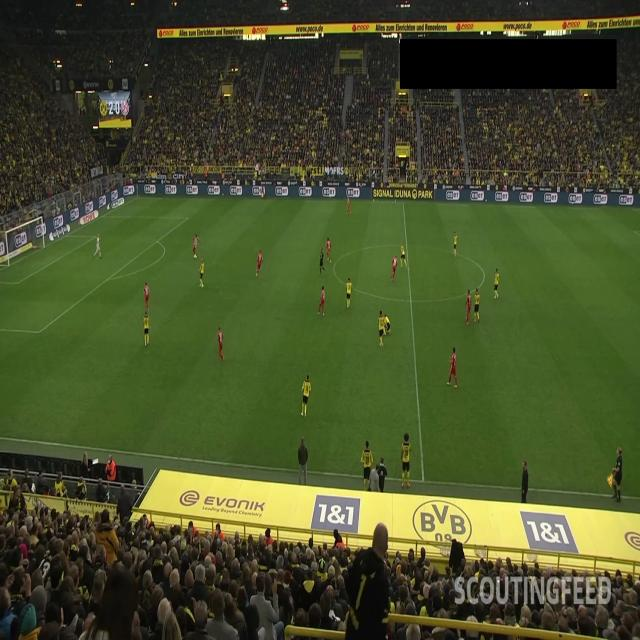ball: (195, 254, 198, 260)
goalkeeper: (93, 232, 102, 258)
player: (360, 440, 374, 491), (400, 432, 411, 488), (447, 346, 458, 388), (301, 374, 311, 417), (142, 311, 150, 347), (317, 285, 326, 316), (378, 310, 385, 348), (345, 277, 353, 309), (474, 287, 481, 323), (390, 254, 398, 282), (493, 268, 500, 300), (382, 314, 392, 336), (465, 290, 471, 326), (218, 326, 224, 361), (256, 249, 263, 277), (144, 282, 150, 314), (400, 243, 407, 269), (193, 234, 200, 258), (326, 236, 332, 262), (199, 257, 204, 288), (453, 230, 458, 258), (346, 195, 352, 216)
referee: (606, 447, 622, 502), (319, 248, 326, 275), (261, 183, 265, 200)
